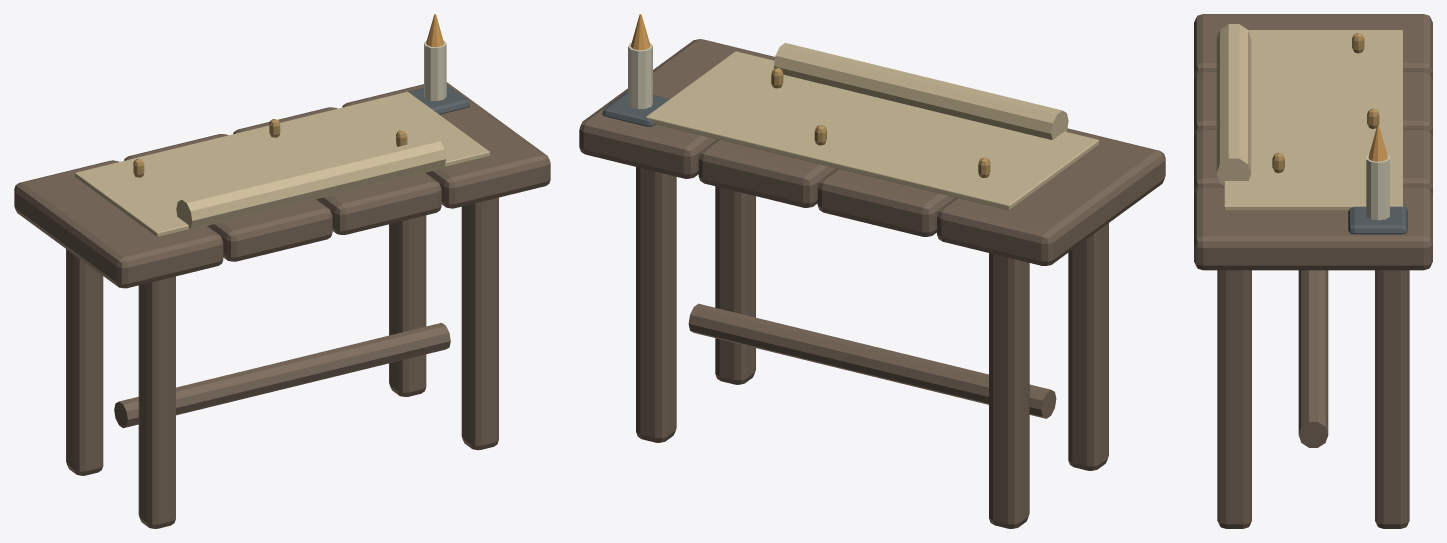
File: watch_map_table.glb
3 views of the same model, side by side, from view 1: azimuth 30°, elevation 25°; view 2: azimuth 150°, elevation 25°; view 3: azimuth 270°, elevation 25° (orthographic). The views are drawn at different scales.
Parts seen in each view (by area): view 1: Body.068; view 2: Body.068; view 3: Body.068.
Part boxes in pixels (x1,y1,x2,y2): Body.068: [14, 14, 550, 528]; Body.068: [579, 14, 1165, 528]; Body.068: [1194, 14, 1432, 528].
Bounding box in the file's own units: 1.09 × 0.91 × 0.48.
